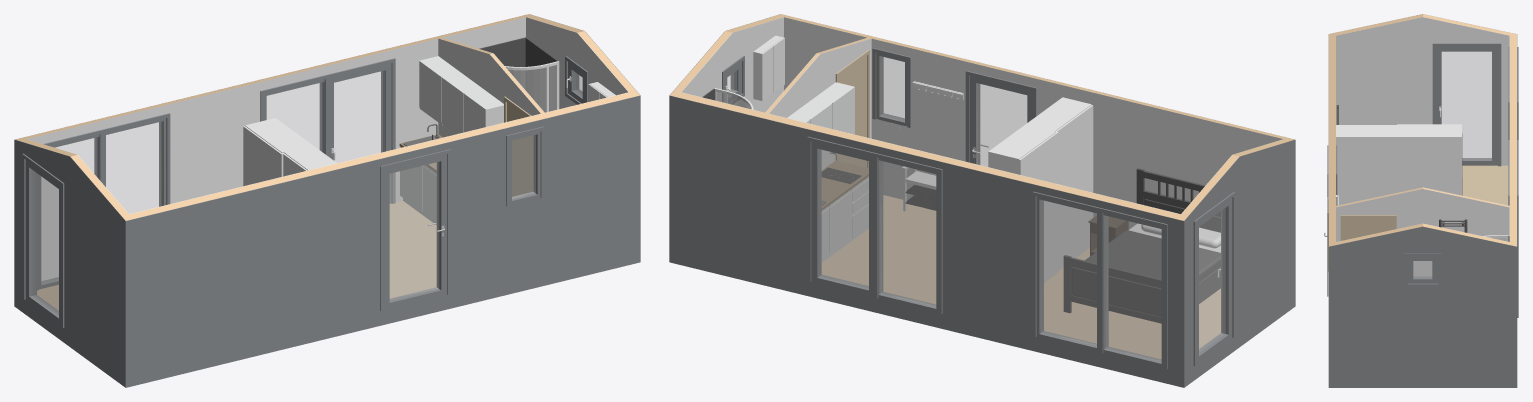
File: saras2you@yahoo.fbx
3 renders of one model, left to right at view 1: azimuth 30°, elevation 25°; view 2: azimuth 150°, elevation 25°; view 3: azimuth 270°, elevation 25°, orthographic. The views are drawn at different scales.
Visible parts, largest first — view 1: IfcWall/Part:2319977, IfcWall/Part:2397154, IfcWall/Part:2368366, IfcDoor/Durys išorinės:1000x2100x120 (kairinės):2439432, IfcWindow/Langai (Akrusta):1000x2100x120 (atverciamas) iki p, IfcWindow/Langai (Akrusta):1000x2100x120 (atverciamas):27480, IfcWindow/Langai (Akrusta):1000x2100x120:2618284, IfcSlab/Part:2319985, IfcFurnishingElement/Ikea spinta:2000 x 500 x 2100mm:2589368, IfcWindow/Langai (Akrusta):1000x2100x120:2747979, IfcWindow/Langai (Akrusta):1000x2100x120:2748254, IfcWall/Part:2319978 (+15 smaller); view 2: IfcWall/Part:2397155, IfcWall/Part:2319976, IfcWall/Part:2368366, IfcSlab/Part:2319985, IfcWindow/Langai (Akrusta):1000x2100x120:2618284, IfcWindow/Langai (Akrusta):1000x2100x120 (atverciamas) iki p, IfcWindow/Langai (Akrusta):1000x2100x120:2748254, IfcWindow/Langai (Akrusta):1000x2100x120:2747979, IfcFurnishingElement/Lova (BED) IKEA:Full Size - Black/Brown, IfcFurnishingElement/Ikea spinta:2000 x 500 x 2100mm:2589368, IfcWindow/Langai (Akrusta):1000x2100x120 (atverciamas):27480, IfcDoor/Durys išorinės:1000x2100x120 (kairinės):2439432 (+16 smaller); view 3: IfcWall/Part:2397152, IfcWall/Part:2368365, IfcFurnishingElement/Ikea spinta:2000 x 500 x 2100mm:2589368, IfcWindow/Langai (Akrusta):1000x2100x120 (atverciamas):27480, IfcWall/Part:2570673, IfcSlab/Part:2319985, IfcWall/Part:2397156, IfcWall/Part:2319978, IfcWindow/Langai (Akrusta):500 x 500 x 120:2512981, IfcDoor/Durys vidinės:800x2100 x 120 (kairinės):2571469, IfcWall/Part:2397153, IfcWall/Part:2368367 (+8 smaller).
Part boxes in pixels (x1,y1,x2,y2): IfcWall/Part:2319977: [125, 95, 640, 387]; IfcWall/Part:2397154: [26, 17, 525, 203]; IfcWall/Part:2368366: [14, 139, 125, 387]; IfcDoor/Durys išorinės:1000x2100x120 (kairinės):2439432: [380, 149, 451, 311]; IfcWindow/Langai (Akrusta):1000x2100x120 (atverciamas) iki p: [319, 58, 395, 203]; IfcWindow/Langai (Akrusta):1000x2100x120 (atverciamas):27480: [22, 153, 64, 327]; IfcWindow/Langai (Akrusta):1000x2100x120:2618284: [94, 113, 170, 213]; IfcSlab/Part:2319985: [37, 201, 436, 310]; IfcFurnishingElement/Ikea spinta:2000 x 500 x 2100mm:2589368: [243, 118, 336, 186]; IfcWindow/Langai (Akrusta):1000x2100x120:2747979: [37, 130, 105, 290]; IfcWindow/Langai (Akrusta):1000x2100x120:2748254: [260, 74, 331, 158]; IfcWall/Part:2319978: [122, 92, 632, 220]; IfcWall/Part:2397155: [669, 95, 1184, 387]; IfcWall/Part:2319976: [784, 17, 1283, 229]; IfcWall/Part:2368366: [1184, 139, 1295, 387]; IfcSlab/Part:2319985: [821, 195, 1220, 359]; IfcWindow/Langai (Akrusta):1000x2100x120:2618284: [1032, 191, 1108, 353]; IfcWindow/Langai (Akrusta):1000x2100x120 (atverciamas) iki p: [807, 136, 883, 298]; IfcWindow/Langai (Akrusta):1000x2100x120:2748254: [871, 152, 942, 314]; IfcWindow/Langai (Akrusta):1000x2100x120:2747979: [1097, 207, 1167, 369]; IfcFurnishingElement/Lova (BED) IKEA:Full Size - Black/Brown: [1063, 168, 1220, 323]; IfcFurnishingElement/Ikea spinta:2000 x 500 x 2100mm:2589368: [988, 97, 1093, 282]; IfcWindow/Langai (Akrusta):1000x2100x120 (atverciamas):27480: [1193, 192, 1235, 365]; IfcDoor/Durys išorinės:1000x2100x120 (kairinės):2439432: [965, 71, 1036, 166]; IfcWall/Part:2397152: [1328, 226, 1516, 387]; IfcWall/Part:2368365: [1336, 17, 1509, 165]; IfcFurnishingElement/Ikea spinta:2000 x 500 x 2100mm:2589368: [1336, 124, 1461, 205]; IfcWindow/Langai (Akrusta):1000x2100x120 (atverciamas):27480: [1432, 43, 1501, 166]; IfcWall/Part:2570673: [1336, 189, 1509, 276]; IfcSlab/Part:2319985: [1462, 165, 1508, 205]; IfcWall/Part:2397156: [1510, 32, 1516, 246]; IfcWall/Part:2319978: [1329, 32, 1335, 243]; IfcWindow/Langai (Akrusta):500 x 500 x 120:2512981: [1404, 253, 1441, 286]; IfcDoor/Durys vidinės:800x2100 x 120 (kairinės):2571469: [1340, 215, 1396, 240]; IfcWall/Part:2397153: [1329, 223, 1509, 246]; IfcWall/Part:2368367: [1336, 14, 1509, 35].
Bounding box in the file's own units: 804 × 283 × 309.
